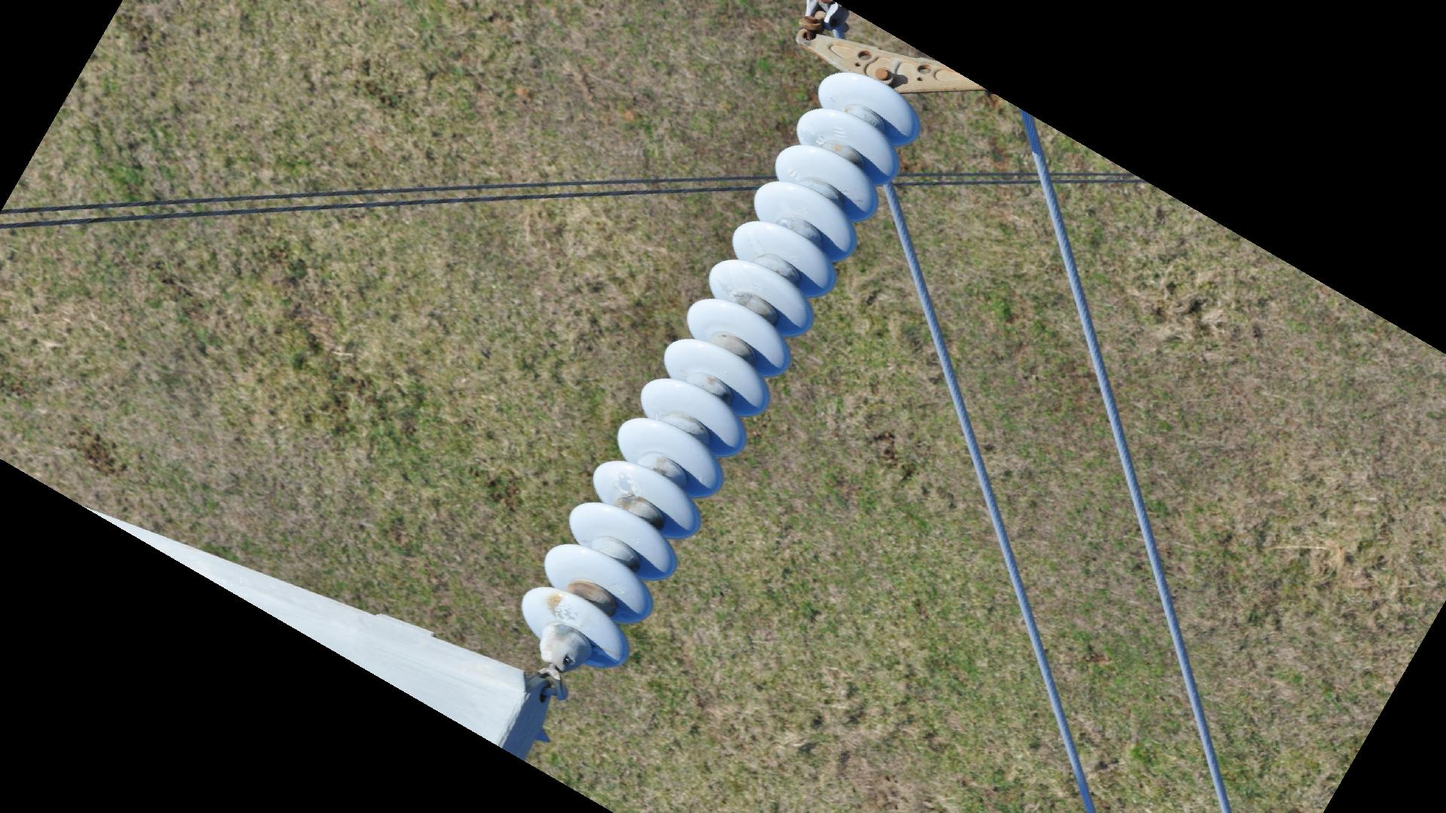insulator: (516, 65, 926, 676)
insulator_flashover: (552, 595, 587, 629), (610, 465, 643, 499)
